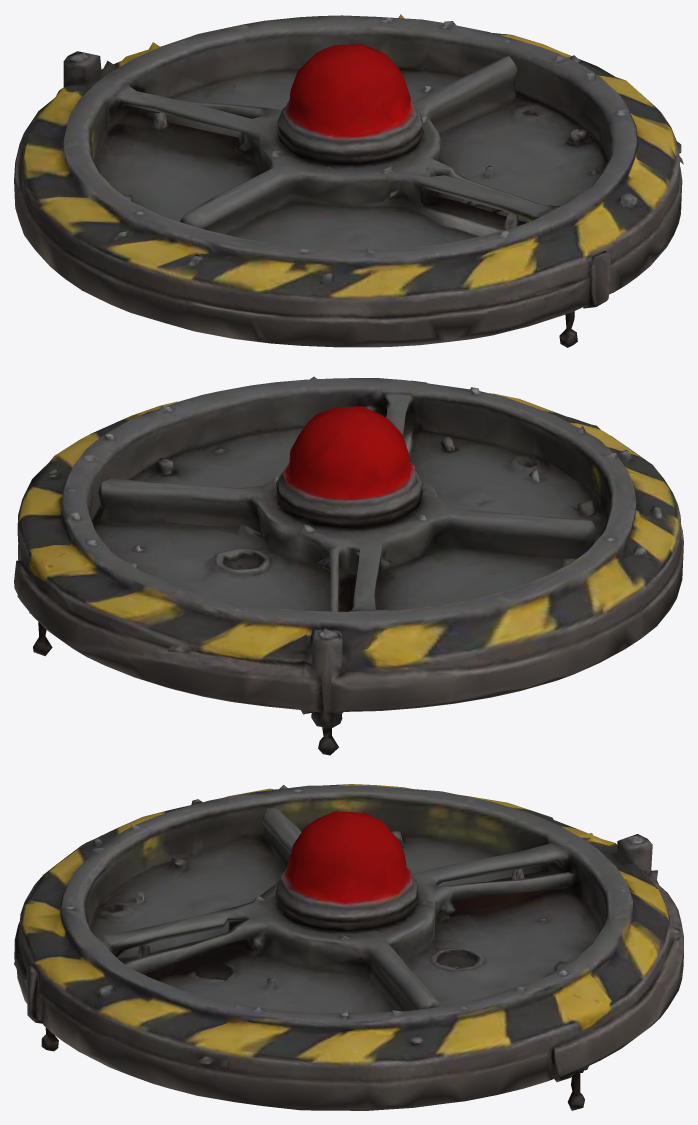
The model's file is mine.glb.
3 renders of one model, top to bottom at view 1: azimuth 30°, elevation 25°; view 2: azimuth 150°, elevation 25°; view 3: azimuth 270°, elevation 25°, orthographic.
Visible parts, largest first — view 1: tripo_node_3a771c36-9075-43c2-a897-4ac43037d713; view 2: tripo_node_3a771c36-9075-43c2-a897-4ac43037d713; view 3: tripo_node_3a771c36-9075-43c2-a897-4ac43037d713.
Part boxes in pixels (x1,y1,x2,y2): tripo_node_3a771c36-9075-43c2-a897-4ac43037d713: (14,14,683,347); tripo_node_3a771c36-9075-43c2-a897-4ac43037d713: (14,376,683,755); tripo_node_3a771c36-9075-43c2-a897-4ac43037d713: (14,784,683,1110).
Bounding box in the file's own units: 0.9846 × 0.3334 × 1.
1 material, 1 textured.
